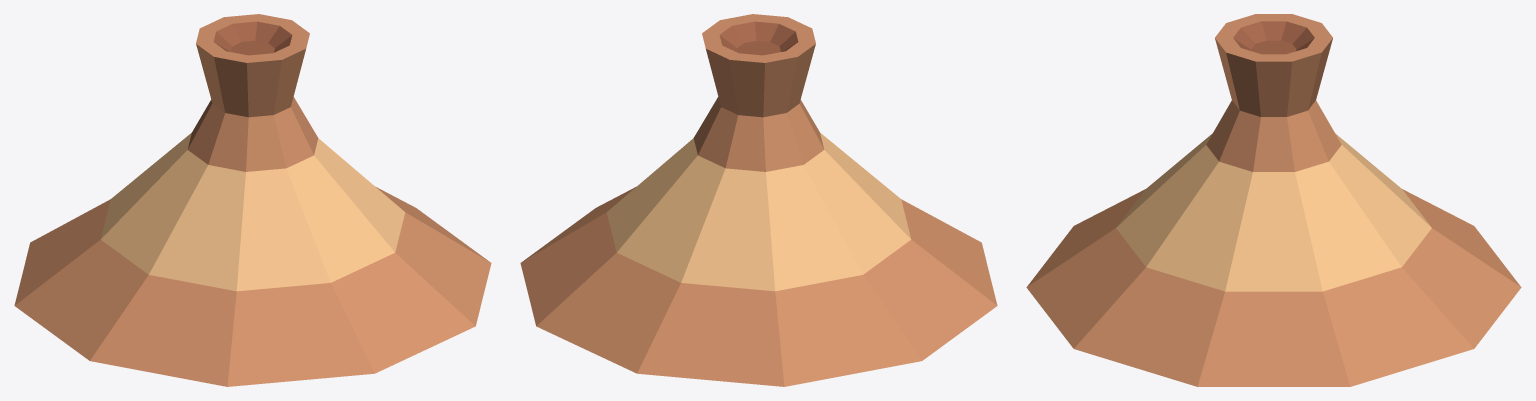
File: tajineLid.fbx
The picture shows the model from 3 angles, left to right: view 1: azimuth 30°, elevation 25°; view 2: azimuth 150°, elevation 25°; view 3: azimuth 270°, elevation 25°; orthographic projection.
Visible parts, largest first — view 1: tajineLid; view 2: tajineLid; view 3: tajineLid.
Boxes of the visible parts, left/top/right/bottom form: tajineLid: left=14, top=14, right=491, bottom=386; tajineLid: left=520, top=14, right=997, bottom=386; tajineLid: left=1026, top=14, right=1521, bottom=386.
Size of the model in its own units: 7.55 by 4.42 by 7.94.
